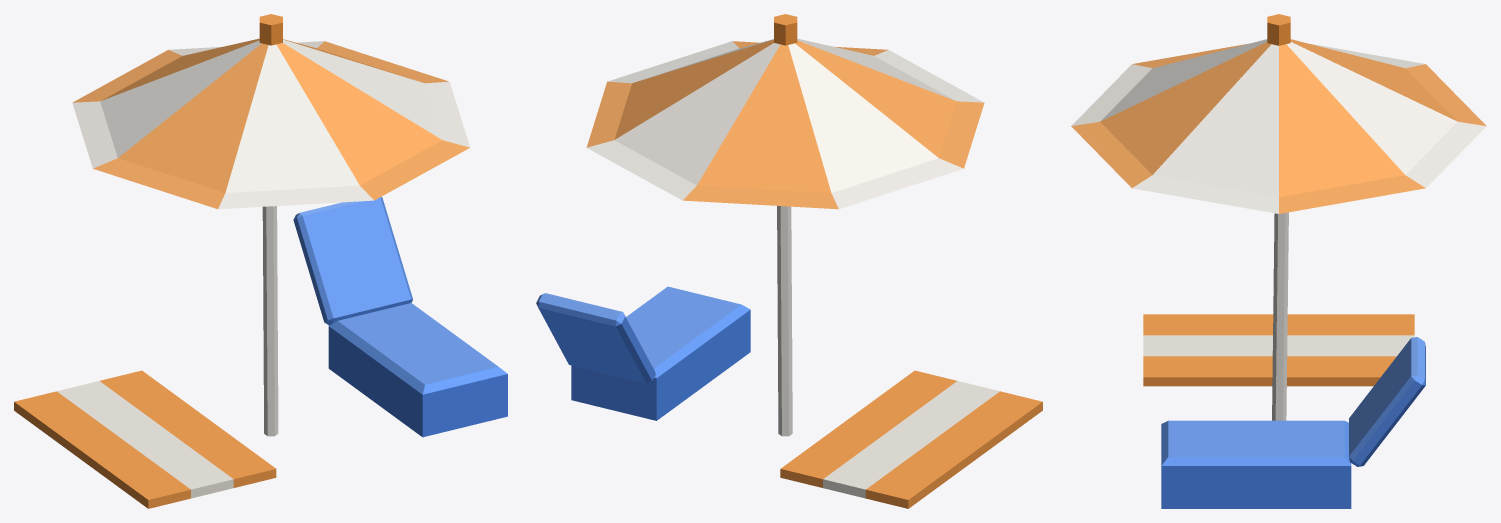
Rendered from BeachUmbrella_1.glb.
The picture shows the model from 3 angles, left to right: view 1: azimuth 30°, elevation 25°; view 2: azimuth 150°, elevation 25°; view 3: azimuth 270°, elevation 25°; orthographic projection.
Parts seen in each view (by area): view 1: BeachUmbrella_1; view 2: BeachUmbrella_1; view 3: BeachUmbrella_1.
Part boxes in pixels (x1,y1,x2,y2): BeachUmbrella_1: (14,14,507,508); BeachUmbrella_1: (536,14,1042,508); BeachUmbrella_1: (1071,14,1486,508).
Bounding box in the file's own units: 9.5 × 10.2 × 9.2.
1 material, 1 textured.
